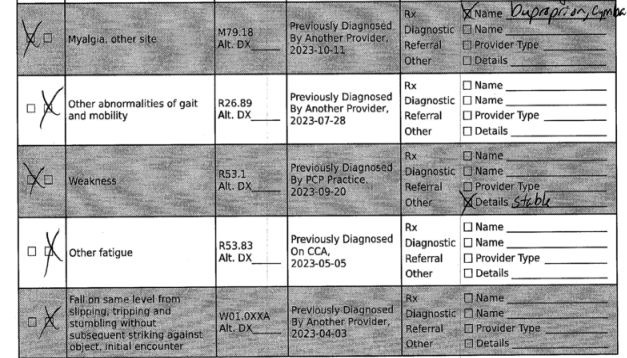checked: (38, 84, 64, 130), (41, 229, 65, 278), (20, 16, 44, 60), (21, 160, 45, 196), (41, 305, 65, 338), (457, 191, 476, 214), (457, 1, 476, 23)
